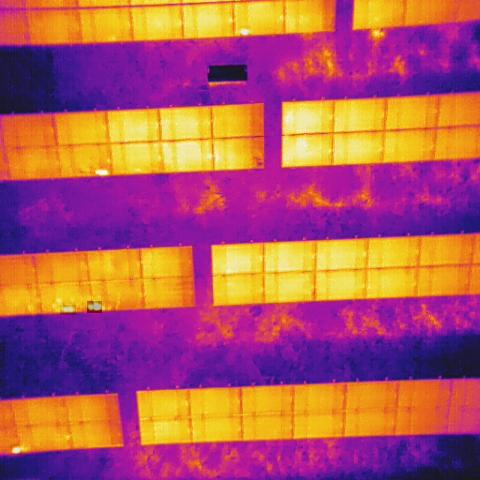fault: (87, 302, 102, 314), (95, 166, 109, 178), (60, 305, 76, 315), (10, 444, 22, 455), (240, 26, 251, 36)
